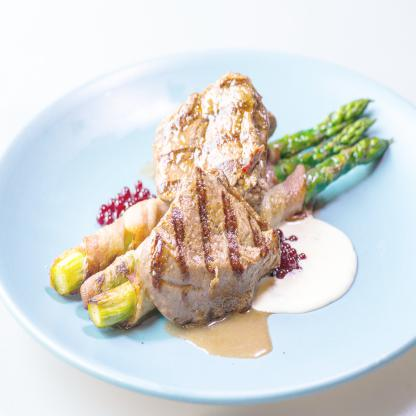Carne: (142, 170, 283, 321), (151, 68, 276, 203)
